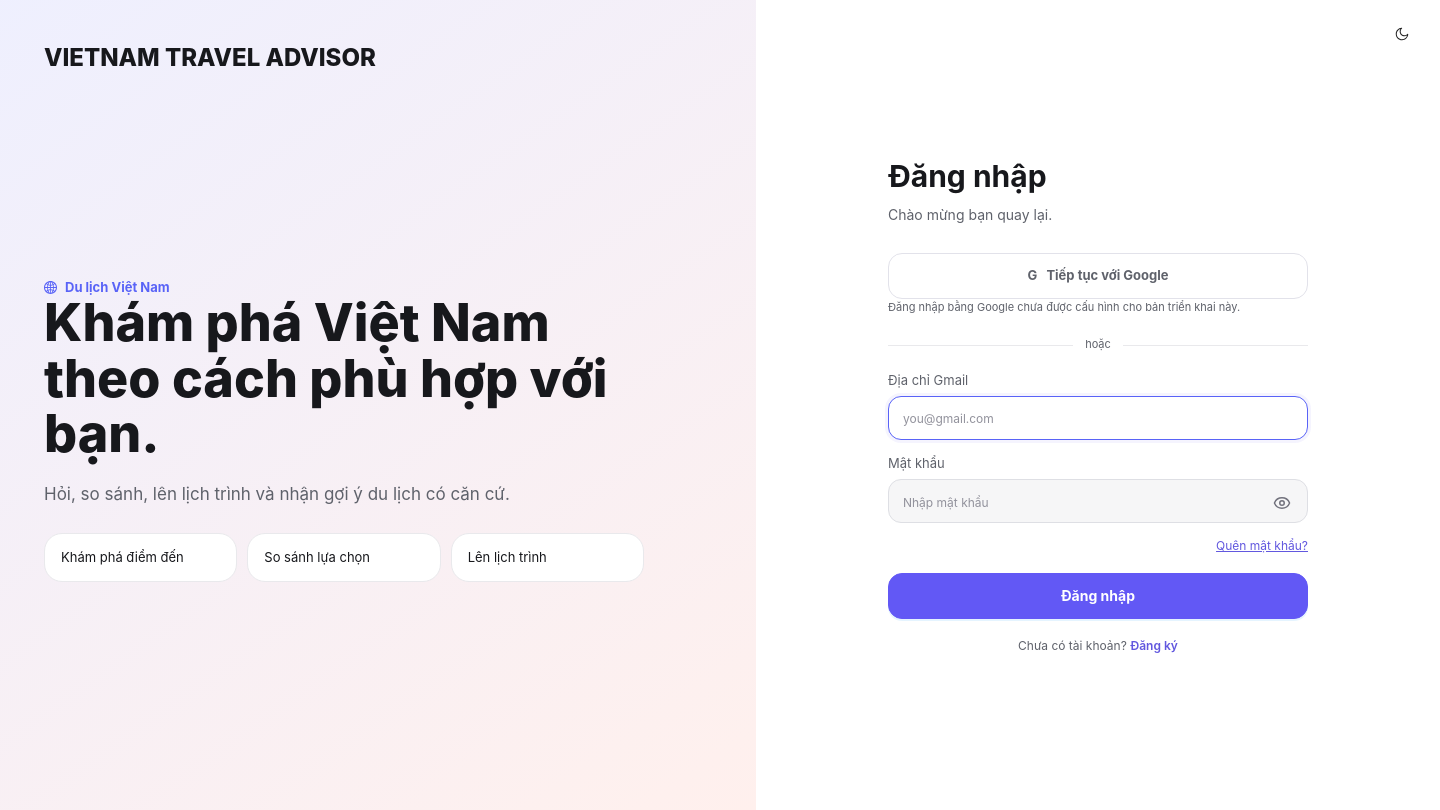
Test: Authentication user flows › rejects Outlook without submitting login credentials
The image size is (1440, 810).
Type "user@outlook.com" into the field labelled "Địa chỉ Gmail" at [1098, 418], box [888,396,1308,440]
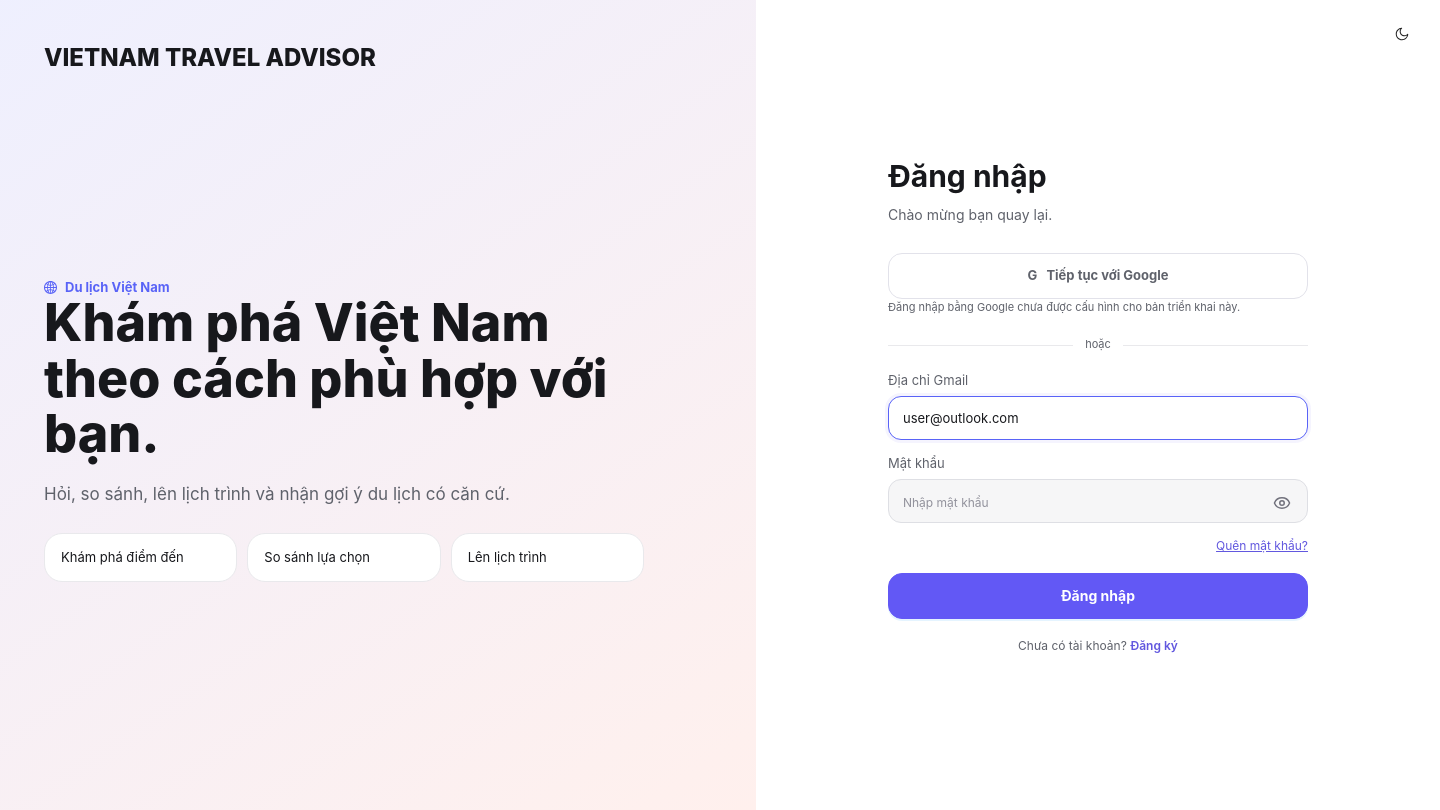
Type "Password123!" into the password field labelled "Mật khẩu" at [1098, 501], box [888,479,1308,523]
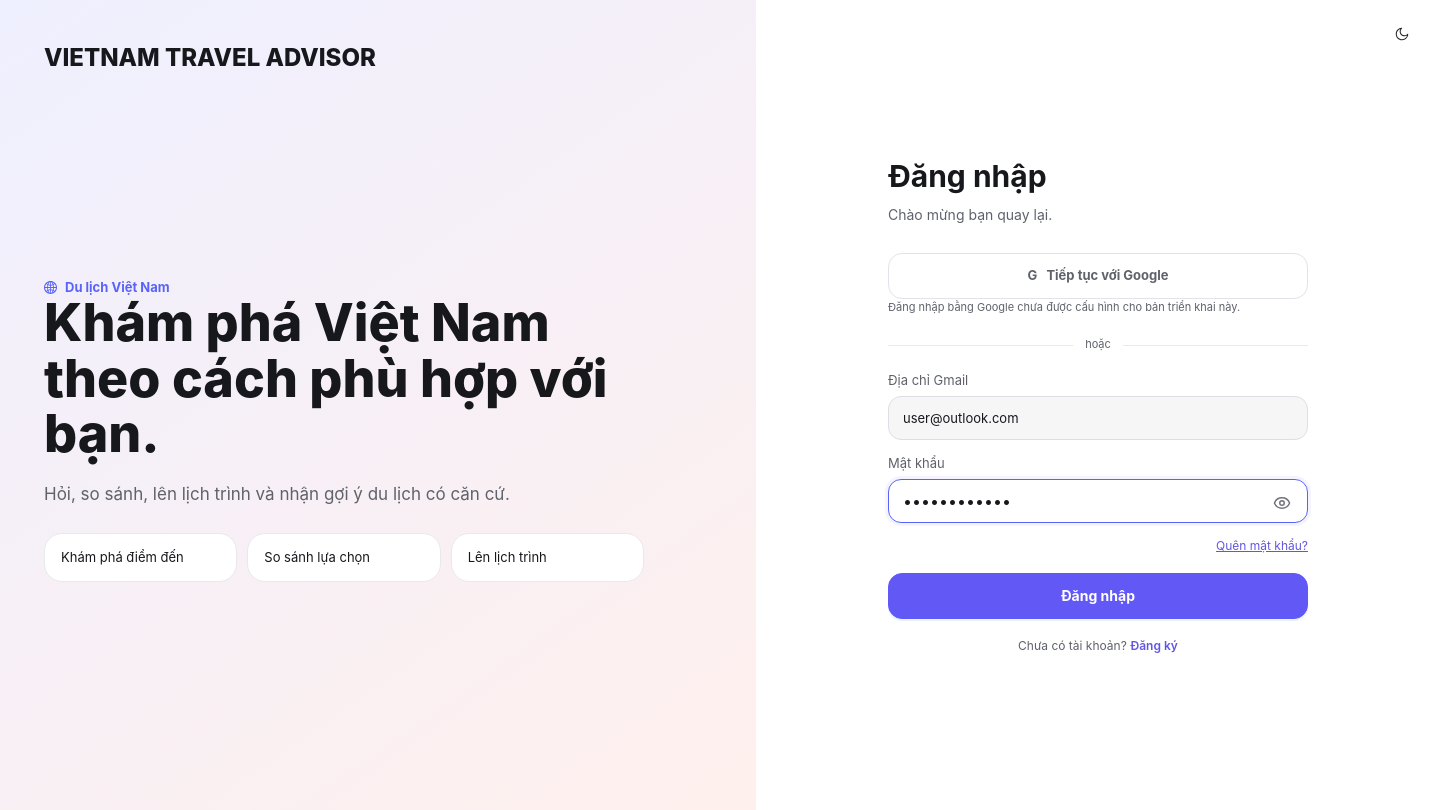
Click the button "Đăng nhập" at [1098, 596], box [888,573,1308,619]
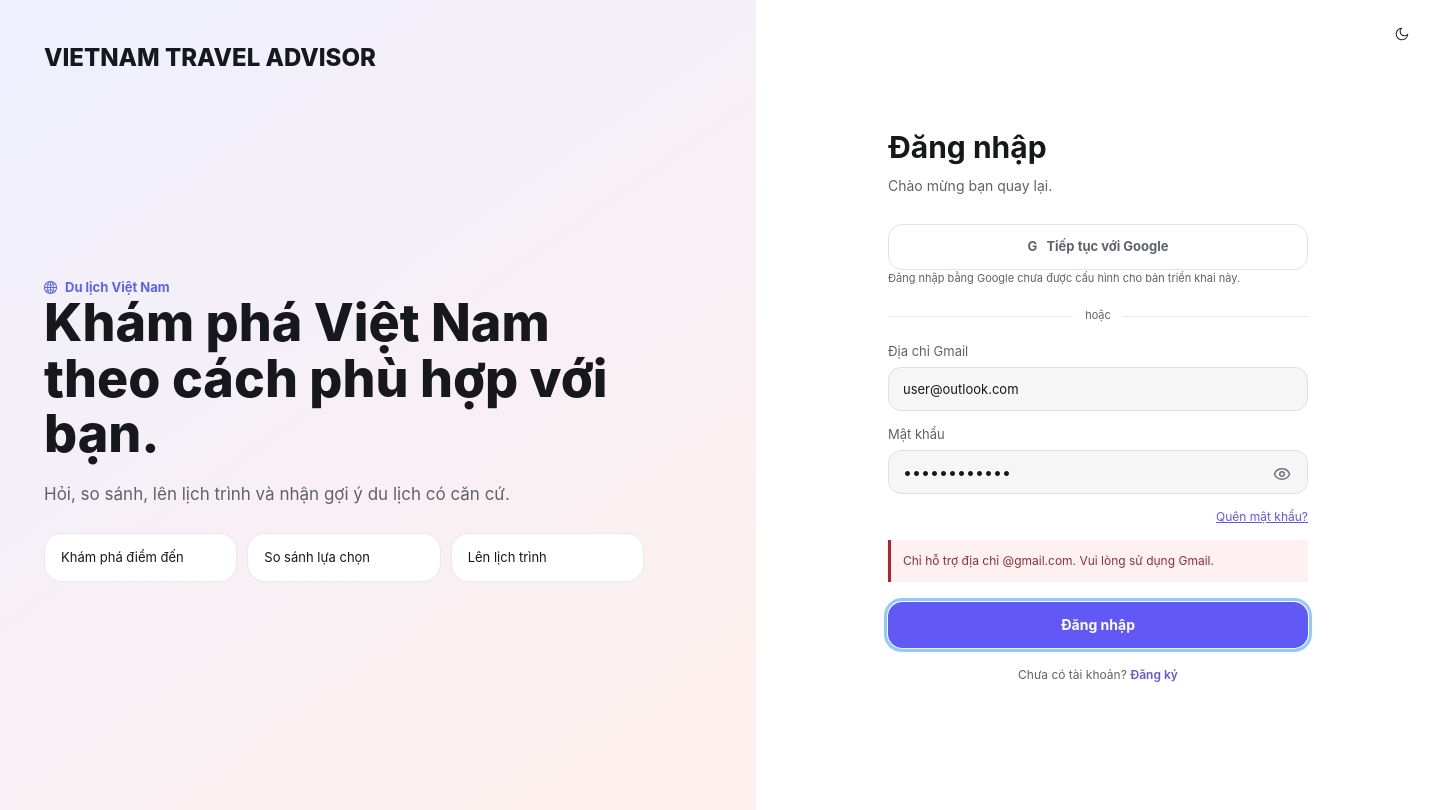
Expected: the message "Chỉ hỗ trợ địa chỉ @gmail.com. Vui lòng sử dụng Gmail." is shown, [888,540,1308,582]
